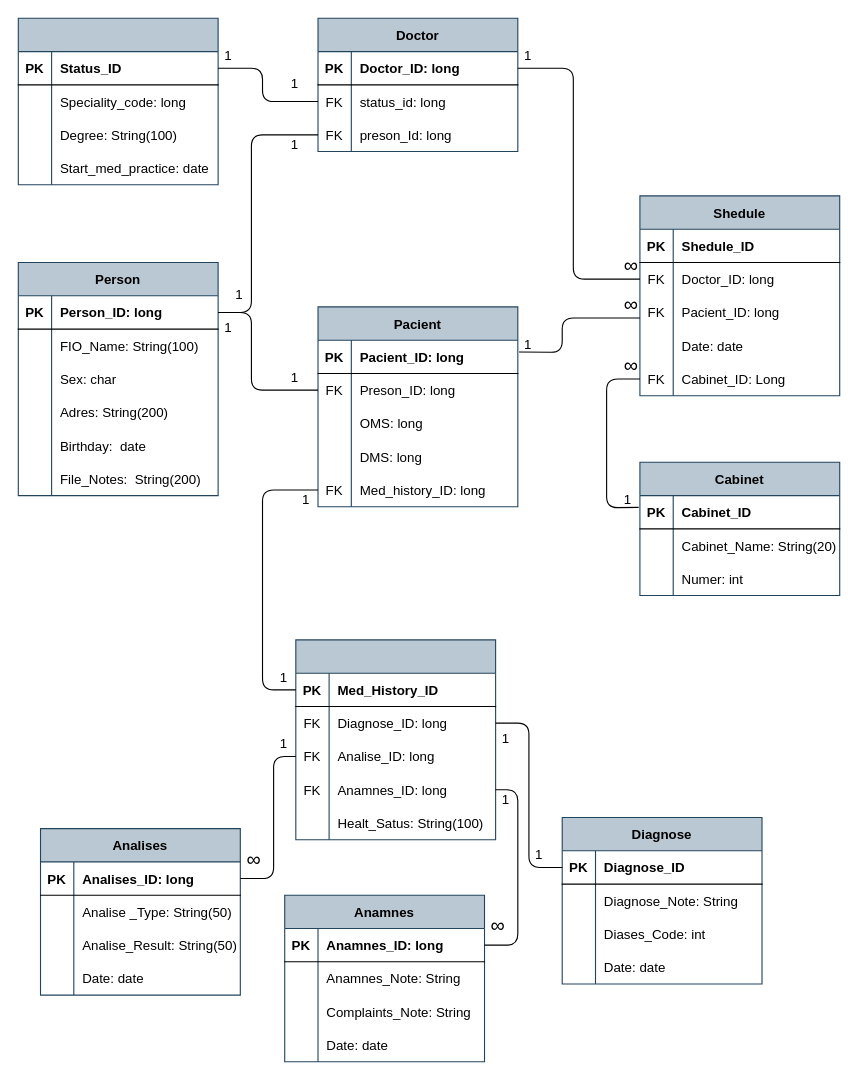
The diagram is 858 pixels wide and 1080 high, and some of its shapes have lost their labels. Each missing label, with the box of its shape:
Medical_Histori: (295, 639, 496, 840)
Satus_ID: (17, 17, 218, 185)
